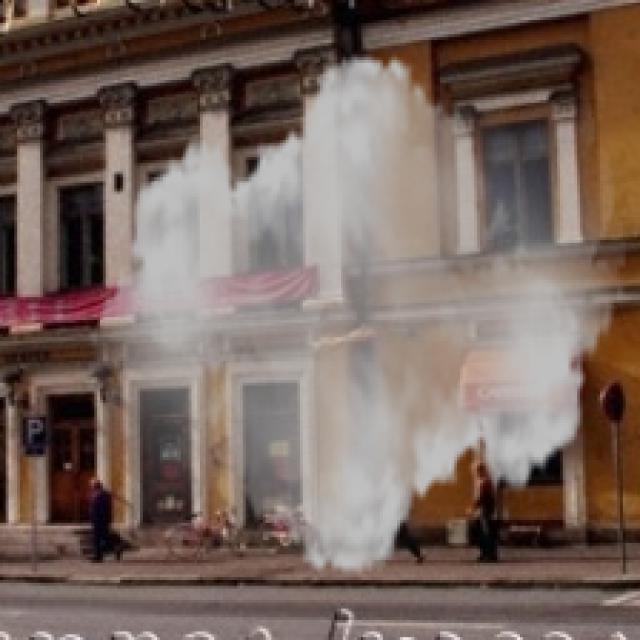Smoke: (89, 31, 626, 598)
